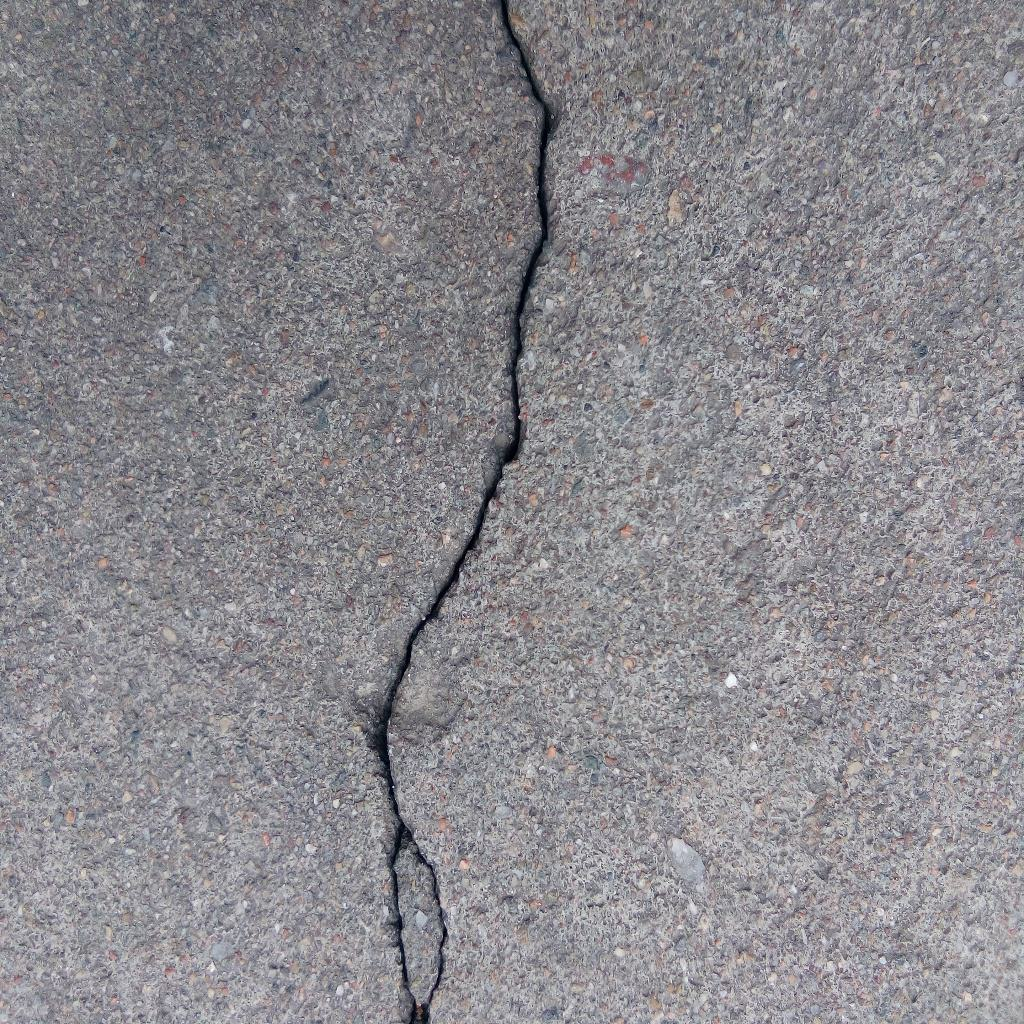Crack: (371, 1, 555, 1024)
